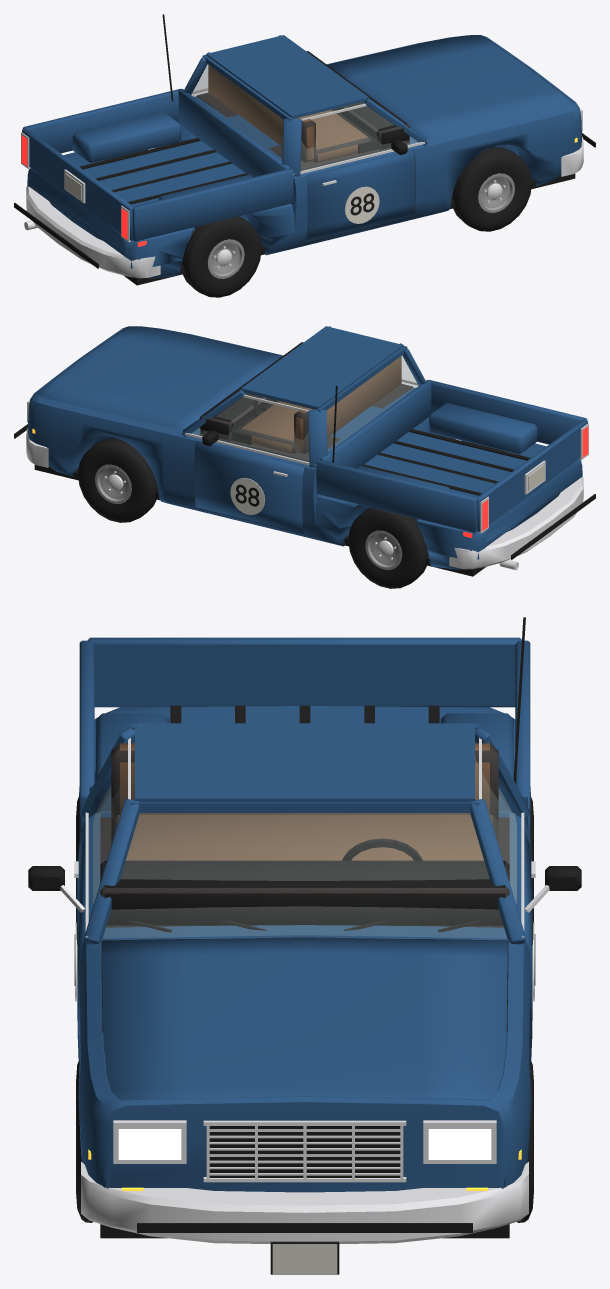
Rendered from derby_pickup_game.glb.
3 views of the same model, one above another, from view 1: azimuth 30°, elevation 25°; view 2: azimuth 150°, elevation 25°; view 3: azimuth 270°, elevation 25° (orthographic). The views are drawn at different scales.
Parts seen in each view (by area): view 1: body, bed, hood, interior, glass, roof, door_R, wheel_FR, wheel_RR, bumper_R, pillars, bed_ribs (+7 smaller); view 2: body, bed, hood, interior, glass, roof, door_L, wheel_FL, wheel_RL, bumper_R, pillars, bed_ribs (+7 smaller); view 3: hood, interior, body, glass, bed, roof, bumper_F, black_details, pillars, chrome_details, headlamps, bumper_F_rubber (+5 smaller).
Part boxes in pixels (<box>): body: <box>27,35,581,278</box>; bed: <box>22,88,293,241</box>; hood: <box>328,35,573,139</box>; interior: <box>197,51,410,170</box>; glass: <box>191,65,418,170</box>; roof: <box>206,35,368,118</box>; door_R: <box>305,150,415,242</box>; wheel_FR: <box>452,147,531,231</box>; wheel_RR: <box>181,216,261,297</box>; bumper_R: <box>26,185,160,278</box>; pillars: <box>179,35,428,176</box>; bed_ribs: <box>79,138,247,204</box>; body: <box>28,326,582,569</box>; bed: <box>316,380,587,532</box>; hood: <box>36,326,282,430</box>; interior: <box>199,342,412,461</box>; glass: <box>191,356,418,461</box>; roof: <box>241,326,403,409</box>; door_L: <box>194,441,304,533</box>; wheel_FL: <box>78,438,157,522</box>; wheel_RL: <box>348,507,428,588</box>; bumper_R: <box>449,476,583,569</box>; pillars: <box>182,326,430,467</box>; bed_ribs: <box>362,429,530,495</box>; hood: <box>102,937,507,1100</box>; interior: <box>100,743,509,927</box>; body: <box>77,706,532,1192</box>; glass: <box>93,758,516,938</box>; bed: <box>79,637,530,835</box>; roof: <box>135,723,474,802</box>; bumper_F: <box>81,1162,528,1243</box>; black_details: <box>28,617,581,1274</box>; pillars: <box>79,722,530,944</box>; chrome_details: <box>60,861,549,1182</box>; headlamps: <box>118,1129,491,1159</box>; bumper_F_rubber: <box>137,1223,472,1232</box>.
Size of the model in its own units: 5.36 by 1.95 by 2.57.
